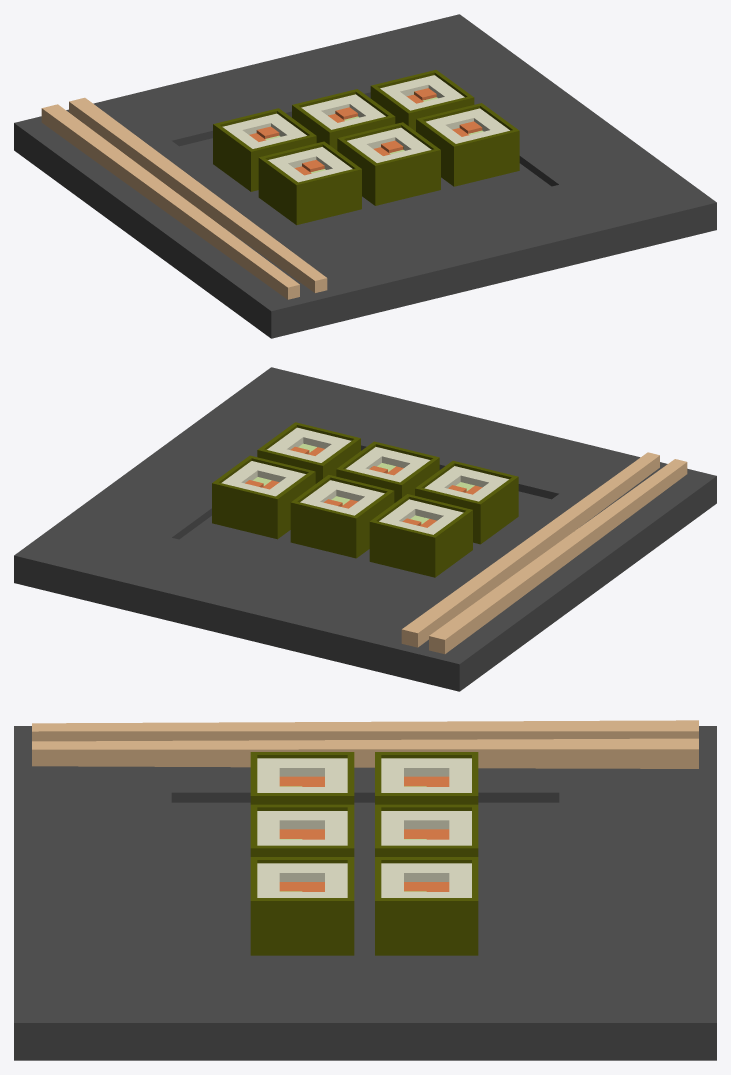
File: sushi.glb
3 renders of one model, top to bottom at view 1: azimuth 30°, elevation 25°; view 2: azimuth 150°, elevation 25°; view 3: azimuth 270°, elevation 25°, orthographic. The views are drawn at different scales.
Parts seen in each view (by area): view 1: Plate, Sushi, Cube.001, Cube; view 2: Plate, Sushi, Cube.001, Cube; view 3: Plate, Sushi, Cube, Cube.001.
Boxes of the visible parts, box(x1,y1,x2,y2) form: Plate: box(14, 14, 716, 338); Sushi: box(213, 70, 519, 225); Cube.001: box(41, 104, 299, 299); Cube: box(69, 97, 327, 292); Plate: box(14, 367, 716, 691); Sushi: box(212, 422, 518, 577); Cube.001: box(429, 459, 687, 654); Cube: box(401, 452, 659, 647); Plate: box(14, 726, 716, 1060); Sushi: box(250, 752, 478, 955); Cube: box(32, 738, 698, 768); Cube.001: box(32, 720, 698, 741).
Size of the model in its own units: 9.72 by 1.31 by 9.72.
